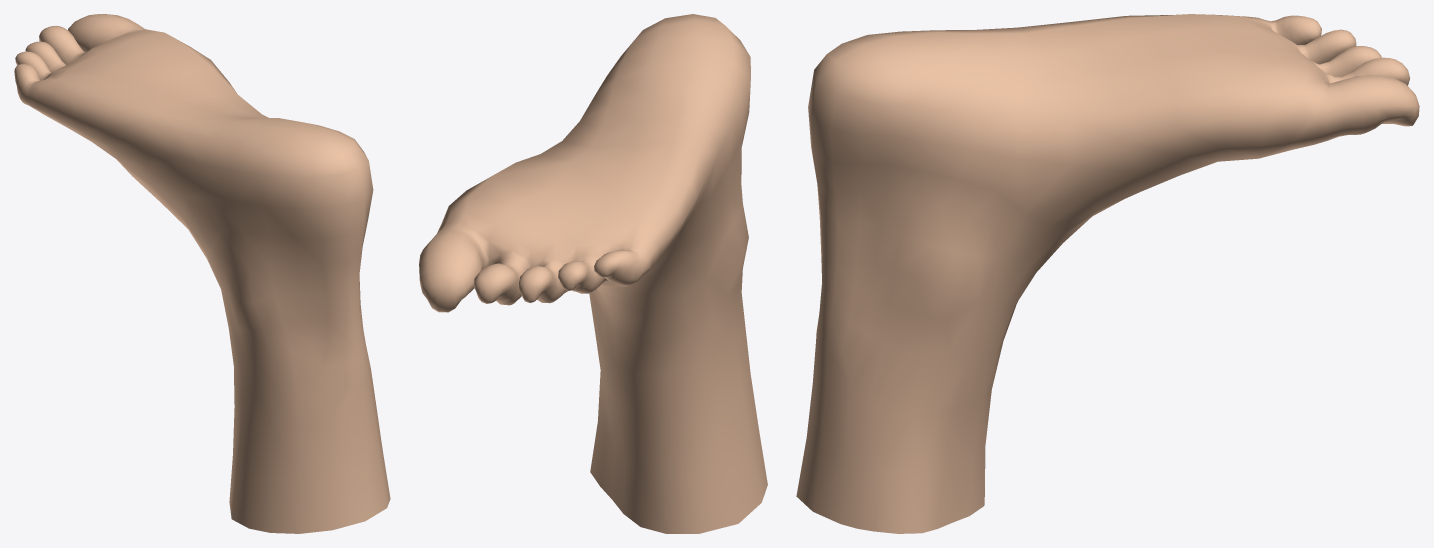
Rendered from foot.glb.
The picture shows the model from 3 angles, left to right: view 1: azimuth 30°, elevation 25°; view 2: azimuth 150°, elevation 25°; view 3: azimuth 270°, elevation 25°; orthographic projection. The views are drawn at different scales.
Visible parts, largest first — view 1: Foot; view 2: Foot; view 3: Foot.
Boxes of the visible parts, x1=… form: Foot: x1=14, y1=14, x2=390, y2=533; Foot: x1=419, y1=14, x2=767, y2=533; Foot: x1=796, y1=14, x2=1419, y2=533.
Size of the model in its own units: 2.77 by 5.16 by 6.27.
